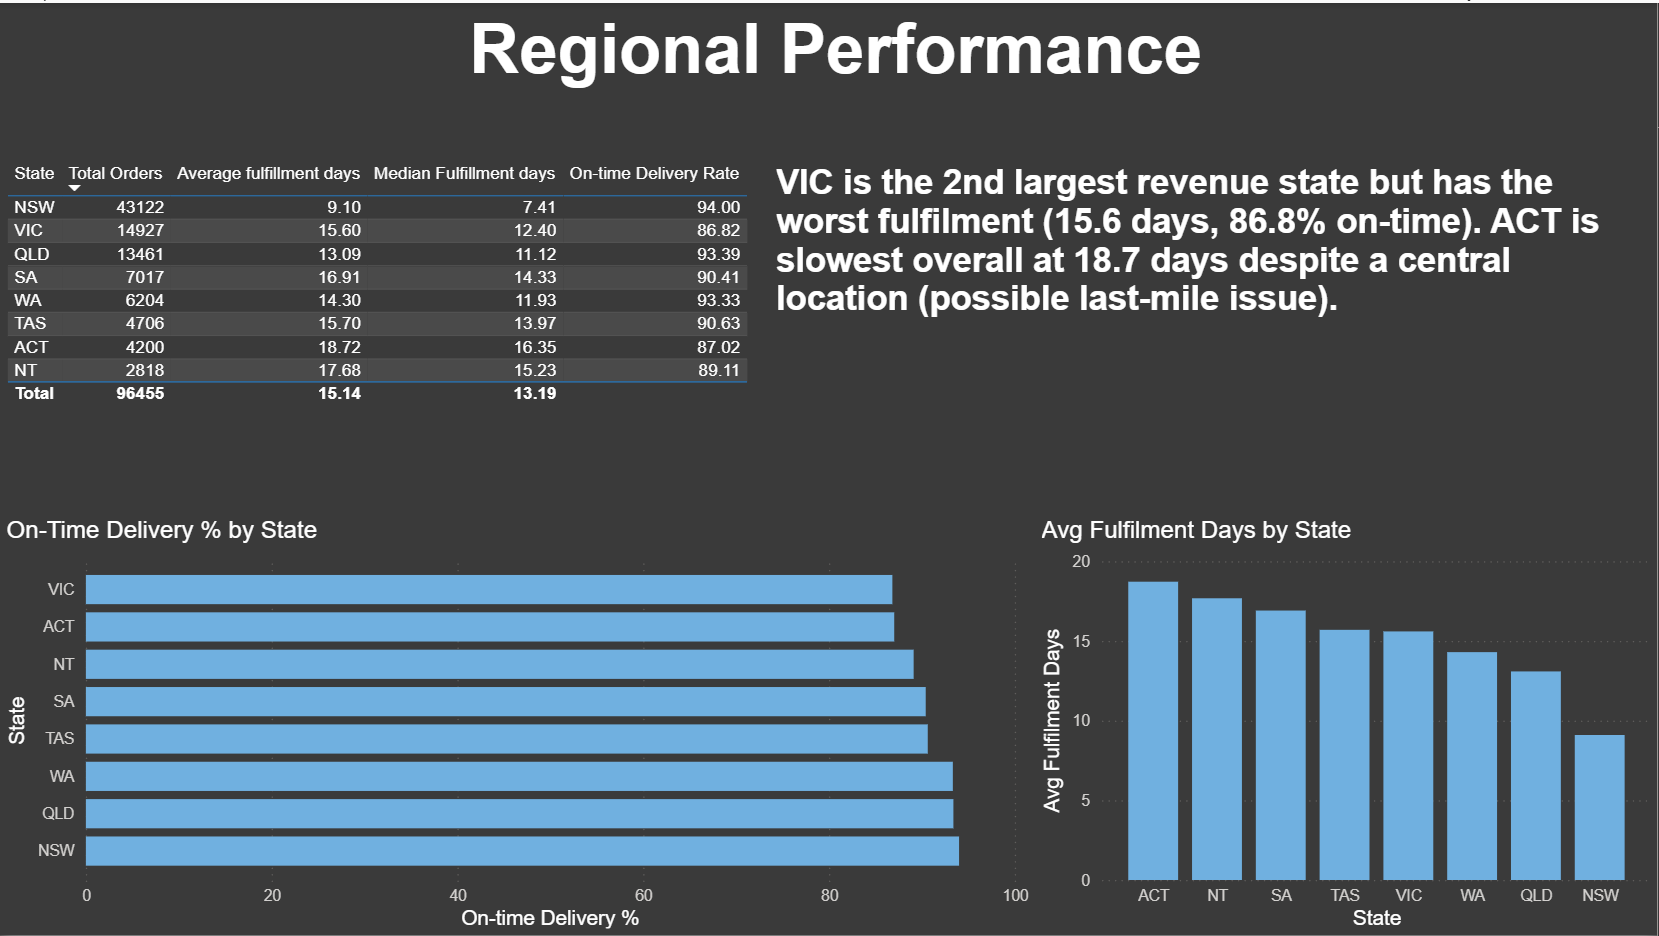

What the dashboard file says about the page in this screenshot:
{"tool":"powerbi","page":{"name":"Page 2","canvas":[1280,720],"ordinal":1},"visuals":[{"type":"textbox","box":[10.1,0,1270.3,137.8],"z":0},{"type":"columnChart","fields":{"Category":["fulfilment_metrics.customer_state"],"Y":["fulfilment_metrics.Avg Fulfilment Days"]},"box":[799.6,396.3,480.8,323.9],"z":1000},{"type":"tableEx","fields":{"Values":["fulfilment_metrics.customer_state","Sum(fulfilment_metrics.total_orders)","Avg(fulfilment_metrics.avg_total_fulfilment_days)","Median(fulfilment_metrics.median_fulfilment_days)","fulfilment_metrics.on_time_delivery_pct"]},"box":[0,118.7,594.4,232.3],"z":2000},{"type":"clusteredBarChart","title":"On-Time Delivery % by State","fields":{"Category":["fulfilment_metrics.customer_state"],"Y":["Sum(fulfilment_metrics.on_time_delivery_pct)"]},"box":[0,396.3,799.6,323.9],"z":3000},{"type":"textbox","box":[594.4,118.7,685.9,232.3],"z":4000}]}

Visuals, with their boxes in screenshot pixels (x1, y1, x2, y2), scaled from the page's 1280x720 canvas onto the 1659x936 screenshot:
textbox: 13/0/1658/179
columnChart - fulfilment_metrics.customer_state x fulfilment_metrics.Avg Fulfilment Days: 1036/515/1658/935
tableEx - fulfilment_metrics.customer_state x Sum(fulfilment_metrics.total_orders): 0/154/770/456
"On-Time Delivery % by State" clusteredBarChart: 0/515/1036/935
textbox: 770/154/1658/456
